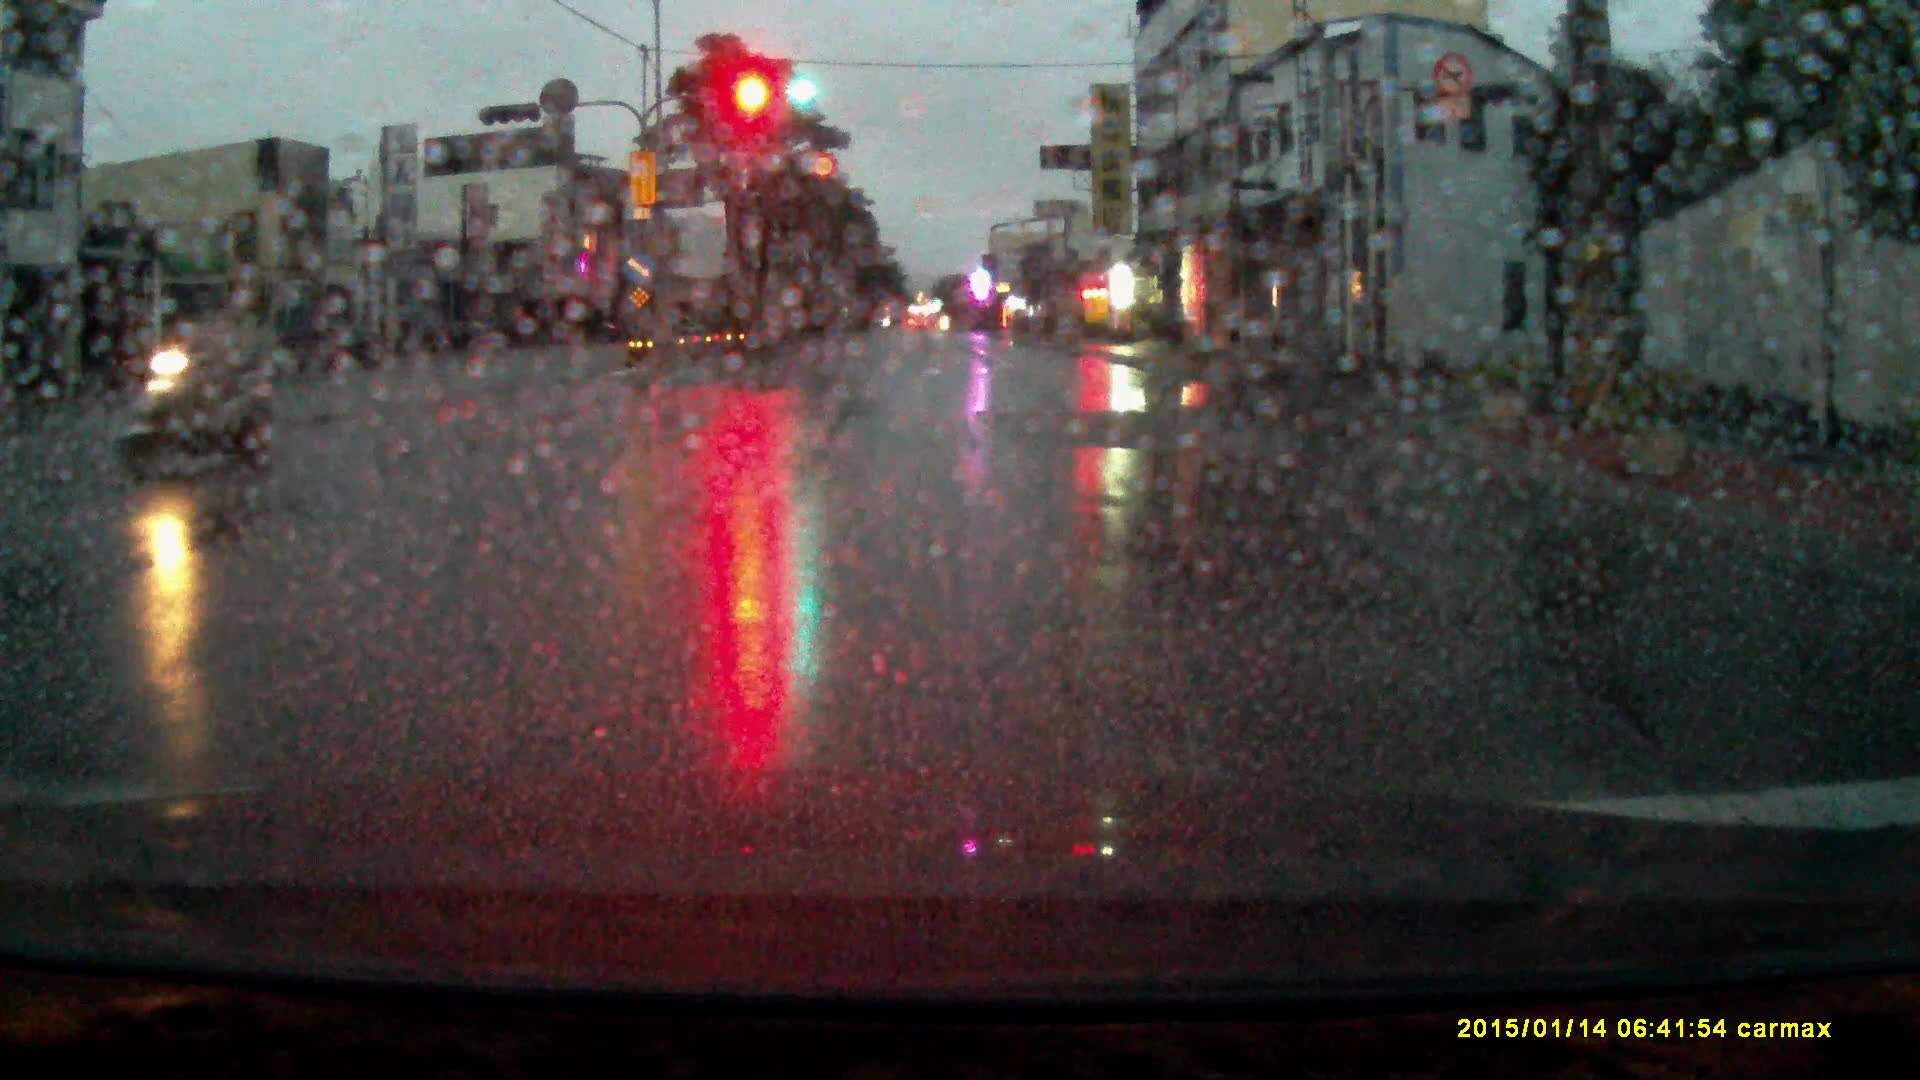rider: (112, 283, 275, 479)
